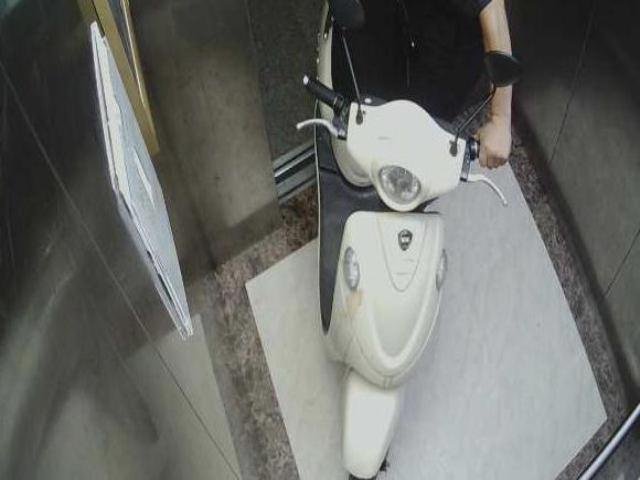emotor: (284, 21, 483, 439)
